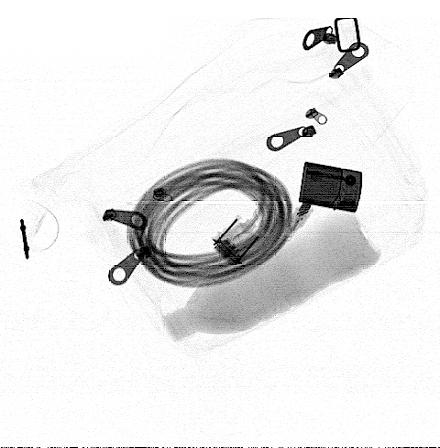Lighter: (299, 162, 364, 213)
